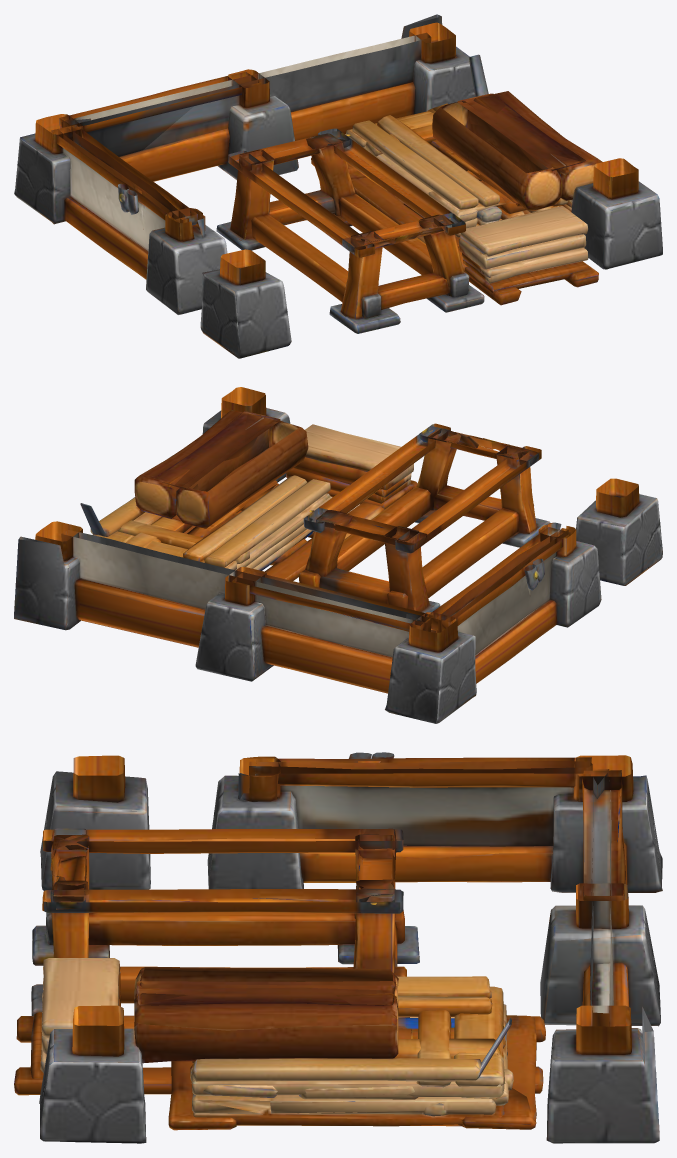
Rendered from aserradero_e1.glb.
The picture shows the model from 3 angles, top to bottom: view 1: azimuth 30°, elevation 25°; view 2: azimuth 150°, elevation 25°; view 3: azimuth 270°, elevation 25°; orthographic projection. The views are drawn at different scales.
Visible parts, largest first — view 1: aserradero_cuerpo; view 2: aserradero_cuerpo; view 3: aserradero_cuerpo.
Boxes of the visible parts, x1,y1,x2,y2 form: aserradero_cuerpo: (14, 14, 662, 358); aserradero_cuerpo: (14, 387, 662, 723); aserradero_cuerpo: (14, 752, 662, 1143).
Bounding box in the file's own units: 1.9 × 0.3617 × 1.84.
1 material, 1 textured.
